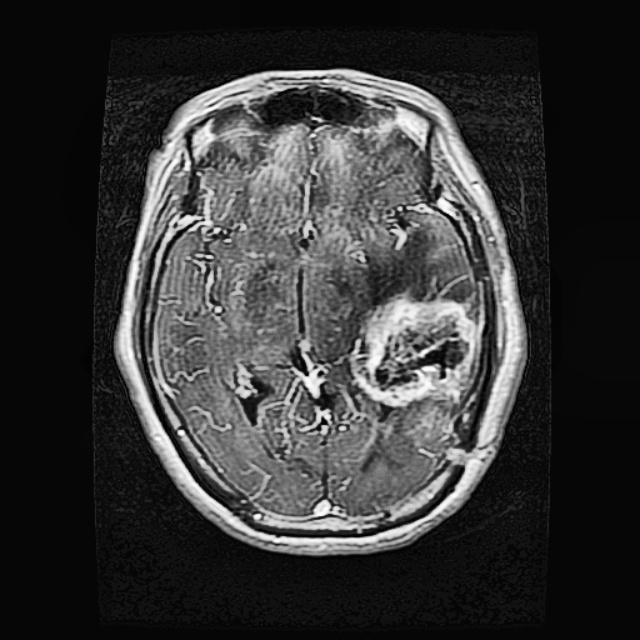Glioma: (348, 295, 478, 403)
